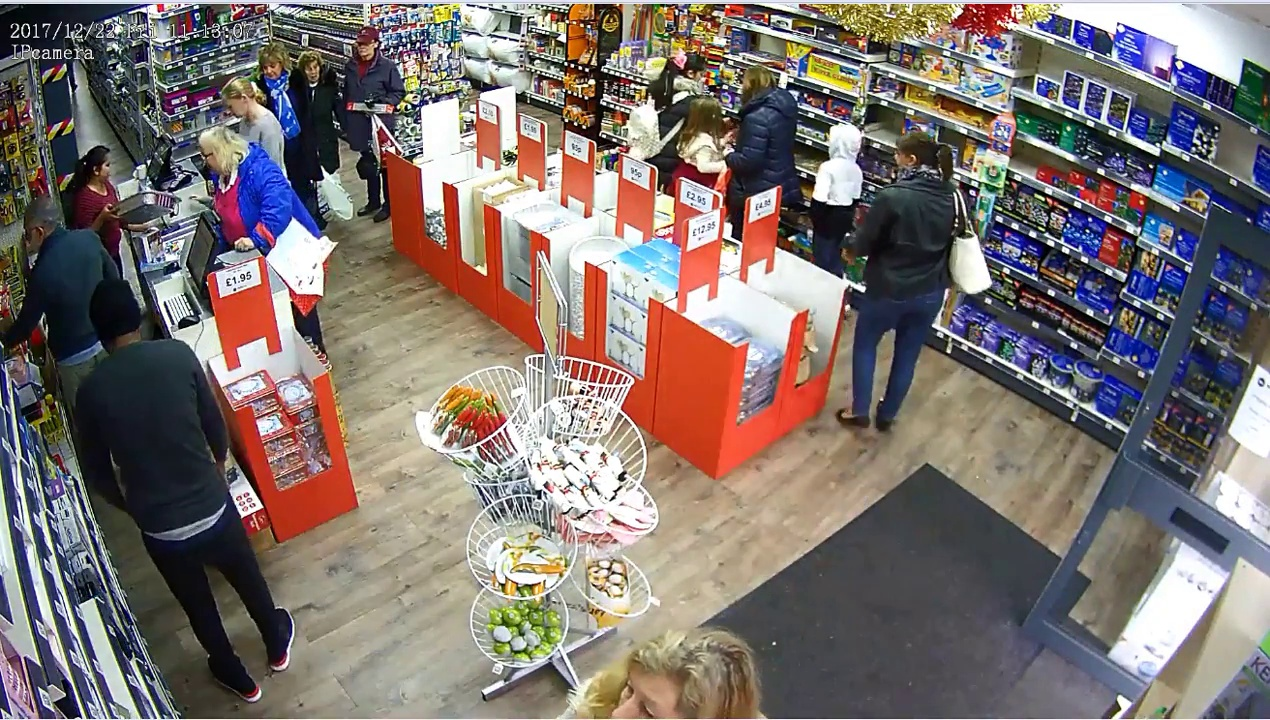face: (607, 663, 688, 720), (299, 56, 326, 83), (257, 55, 283, 80)
